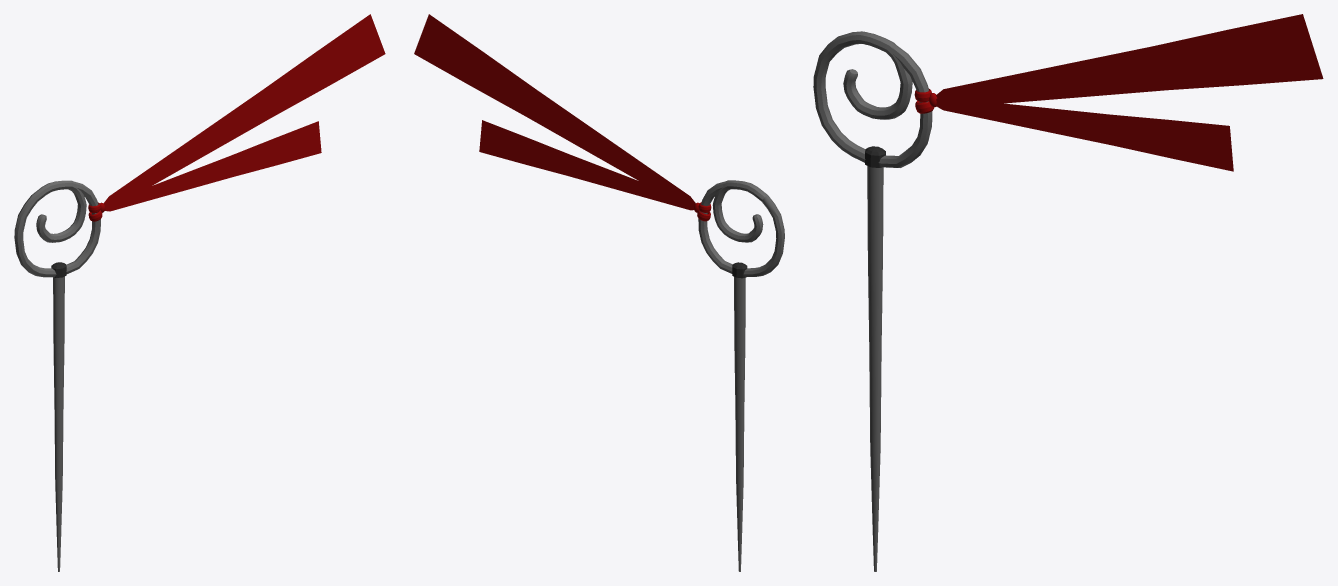
The model's file is cure_dents_V2.FBX.
3 views of the same model, side by side, from view 1: azimuth 30°, elevation 25°; view 2: azimuth 150°, elevation 25°; view 3: azimuth 330°, elevation 25° (orthographic). The views are drawn at different scales.
Visible parts, largest first — view 1: Tissu_cure_dents, Cure_dents; view 2: Tissu_cure_dents, Cure_dents; view 3: Tissu_cure_dents, Cure_dents.
Part boxes in pixels (x1=…): Tissu_cure_dents: x1=103, y1=14, x2=385, y2=211; Cure_dents: x1=14, y1=180, x2=105, y2=571; Tissu_cure_dents: x1=414, y1=14, x2=695, y2=210; Cure_dents: x1=694, y1=180, x2=784, y2=571; Tissu_cure_dents: x1=936, y1=14, x2=1323, y2=171; Cure_dents: x1=813, y1=31, x2=937, y2=571.
Bounding box in the file's own units: 298 × 370 × 9.52.
